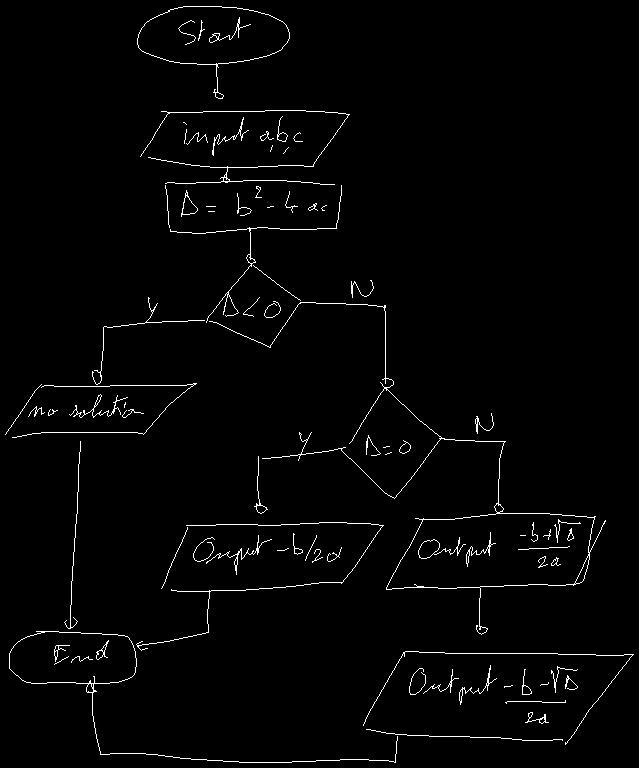arrow: (86, 676, 397, 762), (300, 302, 393, 387), (92, 320, 204, 384), (254, 447, 345, 513), (439, 438, 505, 512), (136, 590, 209, 650), (64, 441, 80, 628), (476, 588, 487, 634), (213, 63, 223, 98), (246, 227, 255, 263), (220, 166, 230, 182)
data: (363, 651, 633, 744), (386, 513, 605, 589), (161, 522, 383, 591), (140, 110, 349, 167), (5, 383, 196, 437)
decision: (341, 387, 444, 498), (206, 264, 302, 347)
process: (165, 180, 341, 233)
terminator: (137, 6, 289, 64), (9, 631, 136, 683)
text: (409, 665, 577, 723), (418, 519, 580, 567), (193, 533, 341, 574), (183, 116, 302, 155), (181, 186, 326, 216), (28, 394, 143, 417), (178, 17, 250, 44), (223, 292, 280, 317), (54, 640, 108, 664), (366, 435, 410, 455), (351, 280, 373, 297), (298, 432, 311, 460), (475, 413, 493, 433), (146, 297, 157, 322)
